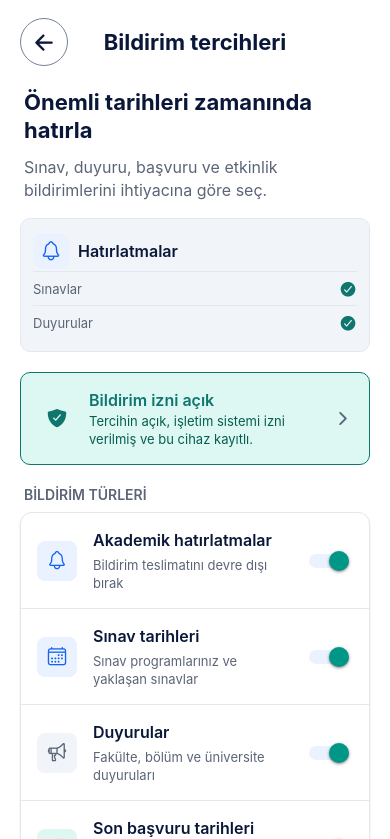
Test: Phase 10 profile/settings synthetic preview › keeps every visible notification group backed by a mutable preview category
The width and height of the screenshot is (390, 839).
Click the switch named "Duyurular bildirimi" at (329, 752), box [309,742,349,762]
(page scrolled)
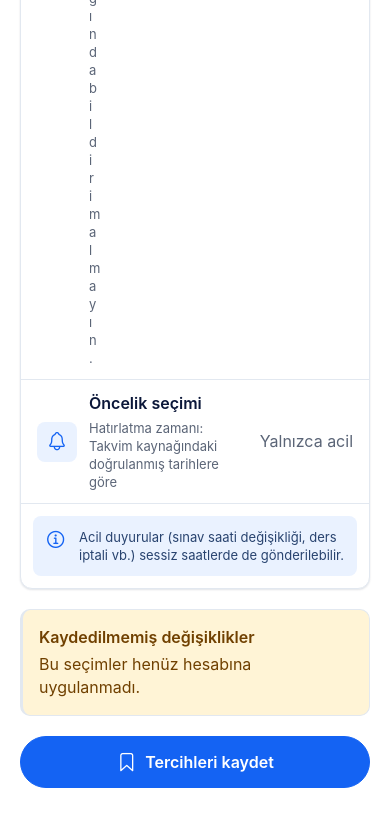
Expected: the text "Kaydedilmemiş değişiklikler" is shown, [39,627,255,647]
